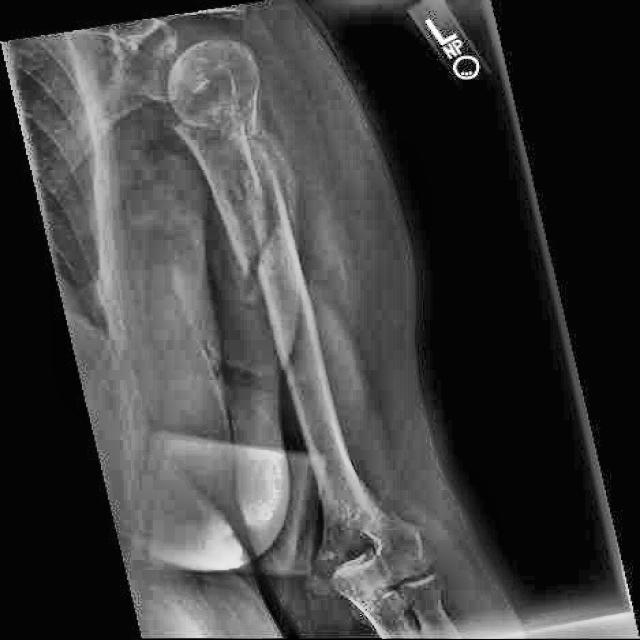humerus: (216, 165, 324, 345)
